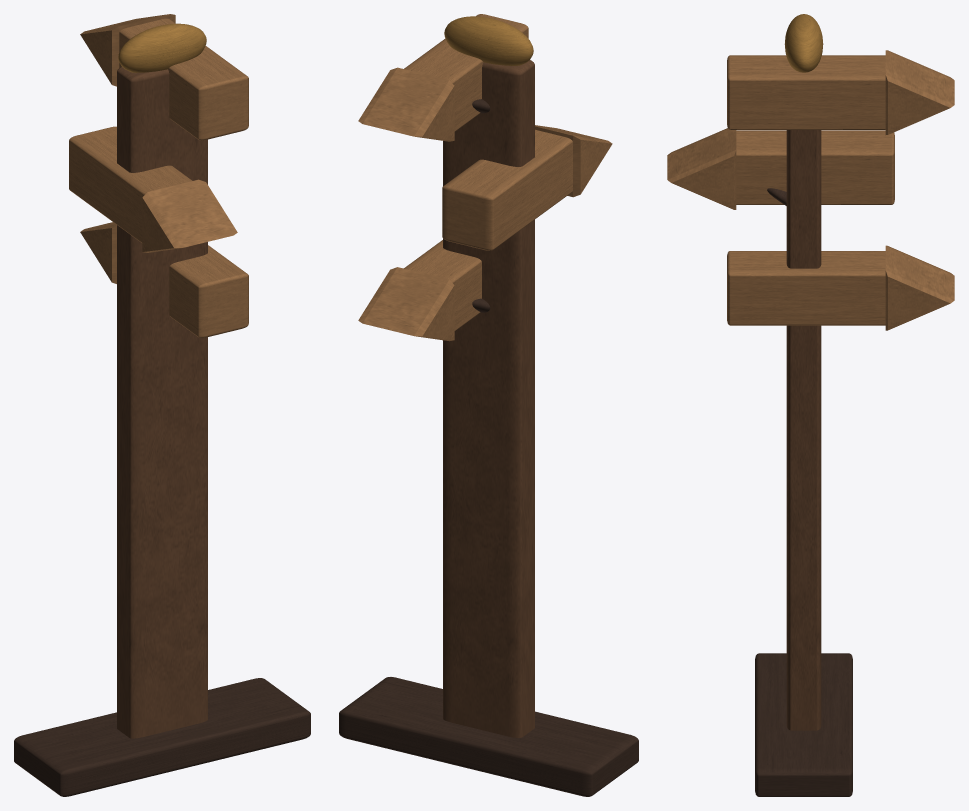
File: sign_post_city.glb
3 views of the same model, side by side, from view 1: azimuth 30°, elevation 25°; view 2: azimuth 150°, elevation 25°; view 3: azimuth 270°, elevation 25° (orthographic). The views are drawn at different scales.
Parts seen in each view (by area): view 1: sign_post_city; view 2: sign_post_city; view 3: sign_post_city.
Part boxes in pixels (<box>): sign_post_city: <box>14,14,310,796</box>; sign_post_city: <box>339,14,638,796</box>; sign_post_city: <box>667,14,954,796</box>.
Size of the model in its own units: 0.8 by 2.2 by 0.8.
Materials: 1 (1 with a texture image).
